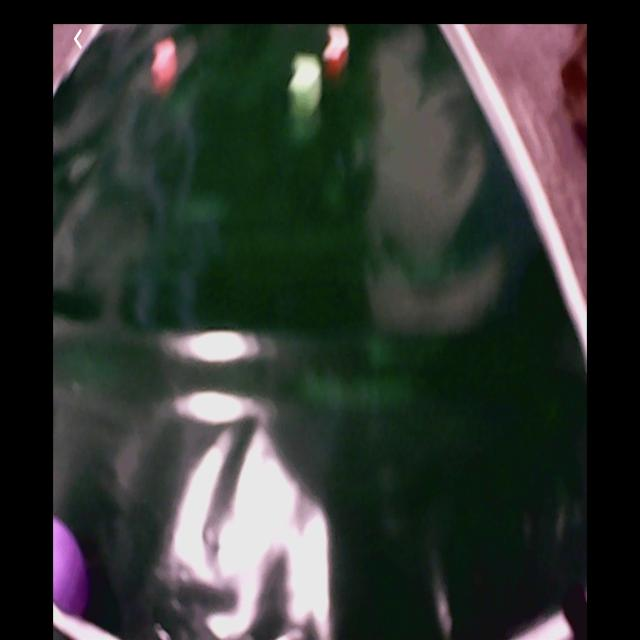ball: (54, 516, 87, 625)
